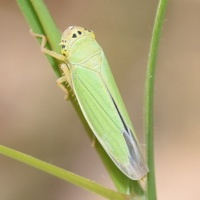insect: (34, 26, 147, 179)
